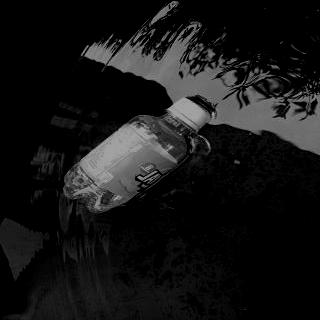bottle: (52, 92, 218, 214)
